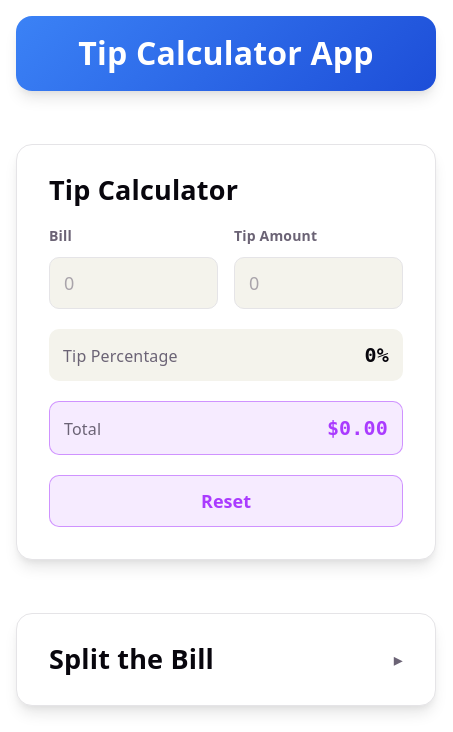
App › recalculates the tip percentage and total when bill and tip change
Type "100" into the field labelled "Bill" at (134, 283), box [49,257,218,309]
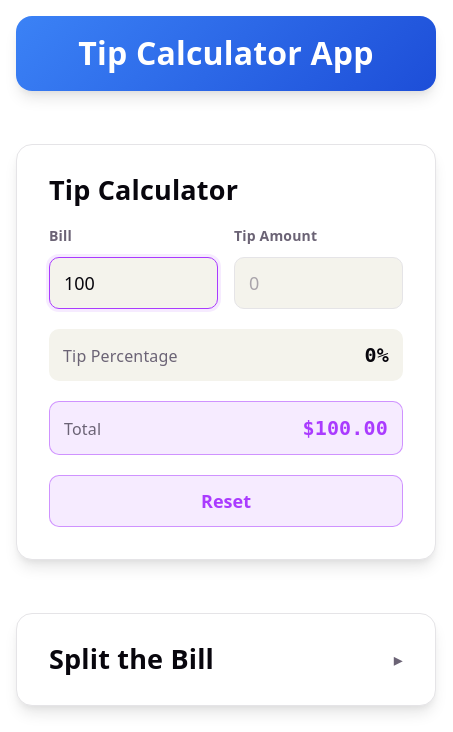
Type "20" into the field labelled "Tip Amount" at (318, 283), box [234,257,403,309]
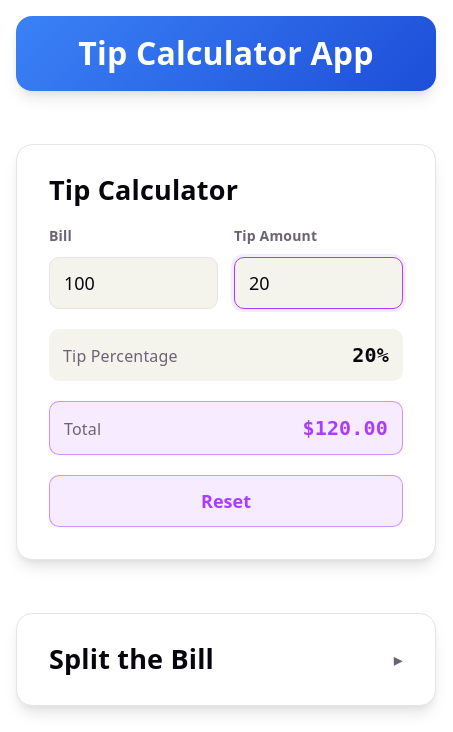
expect the text "20%" is shown: met, box [352,341,389,369]
expect the text "$120.00" is shown: met, box [302,414,388,442]
